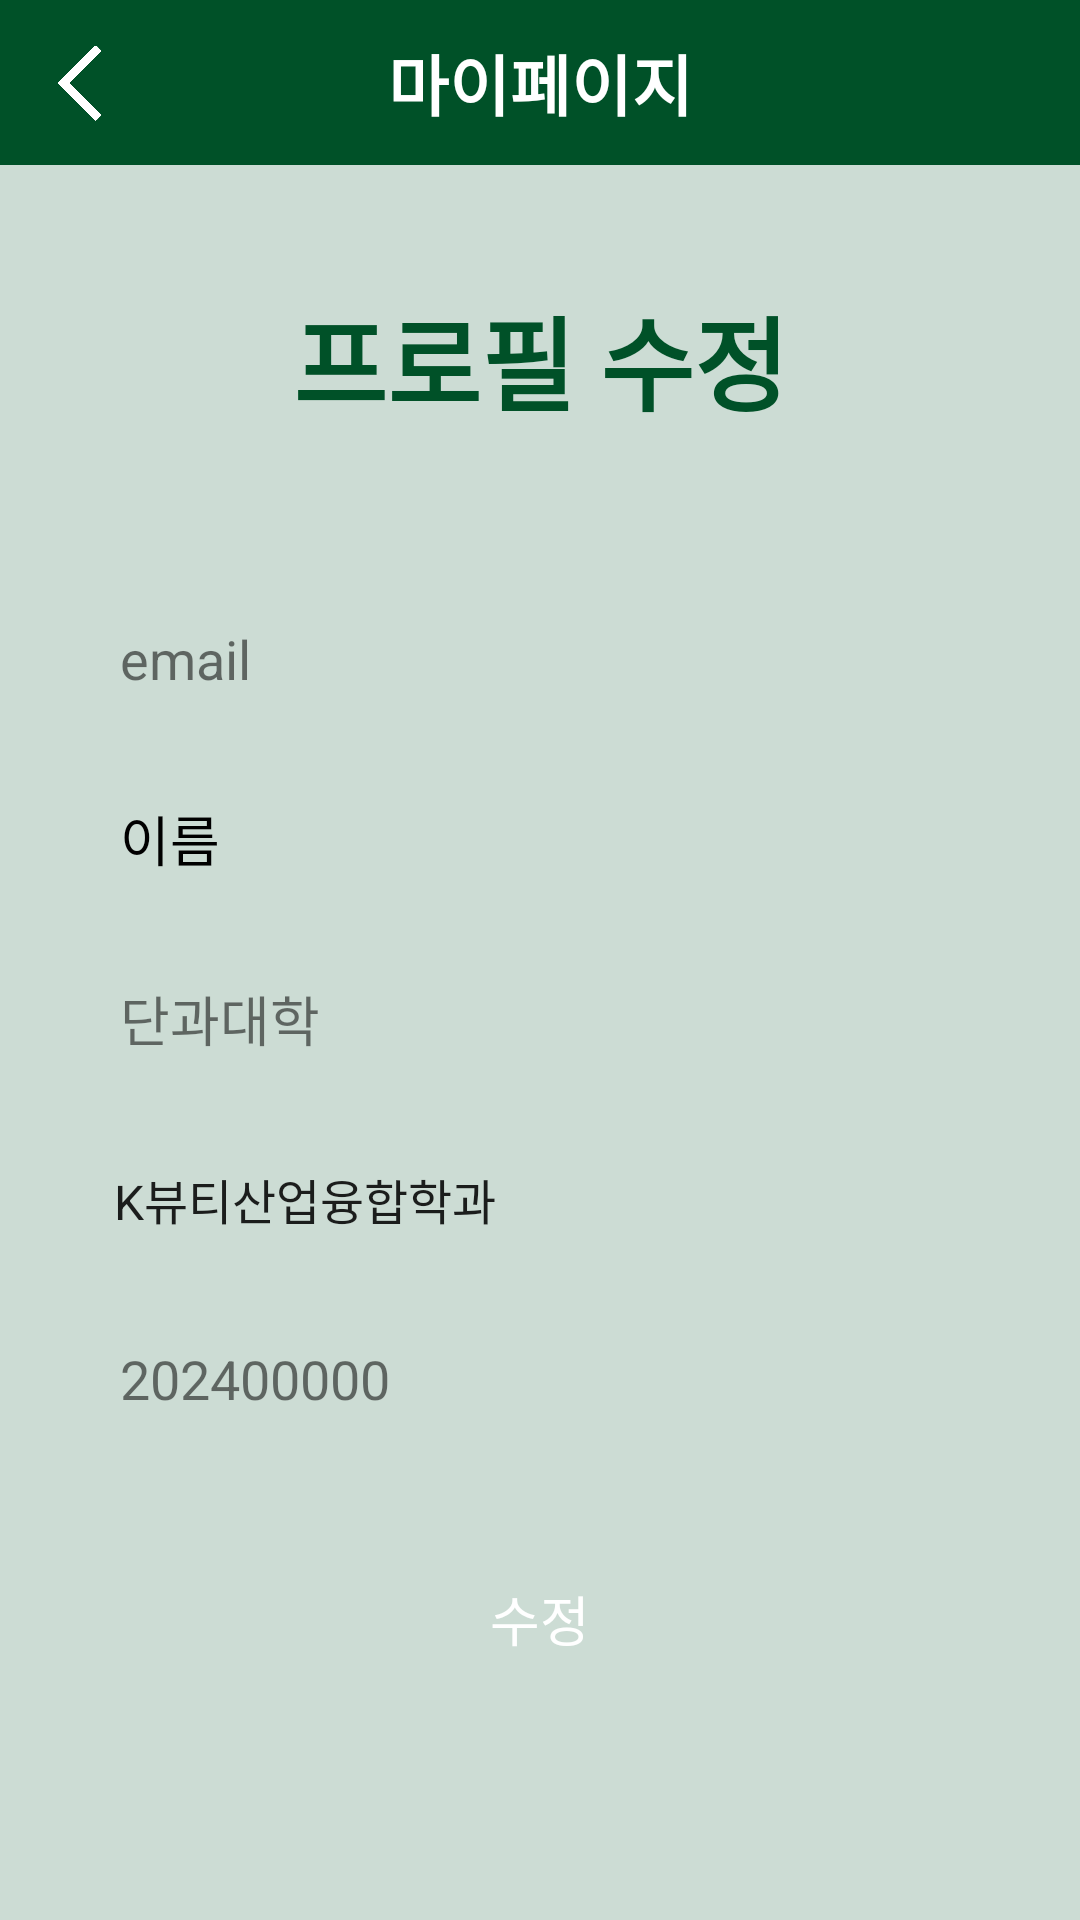

Icon click points for this 1080px x 1920px phone screenshot, format (x=x, y=y):
backward: (x=79, y=83)
